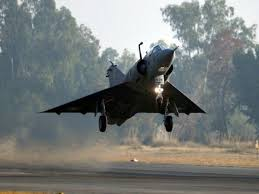fighter: (38, 40, 211, 135)
